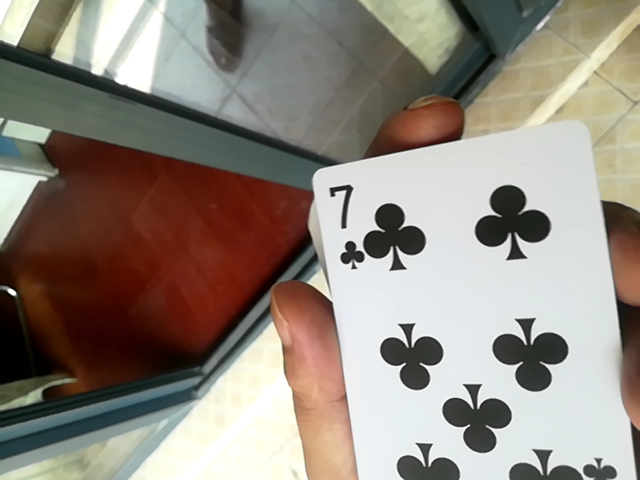mh 7: (295, 122, 634, 476)
